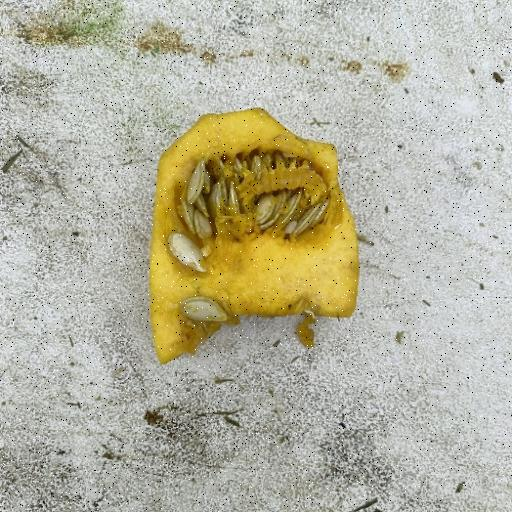Waste: (146, 106, 360, 366)
